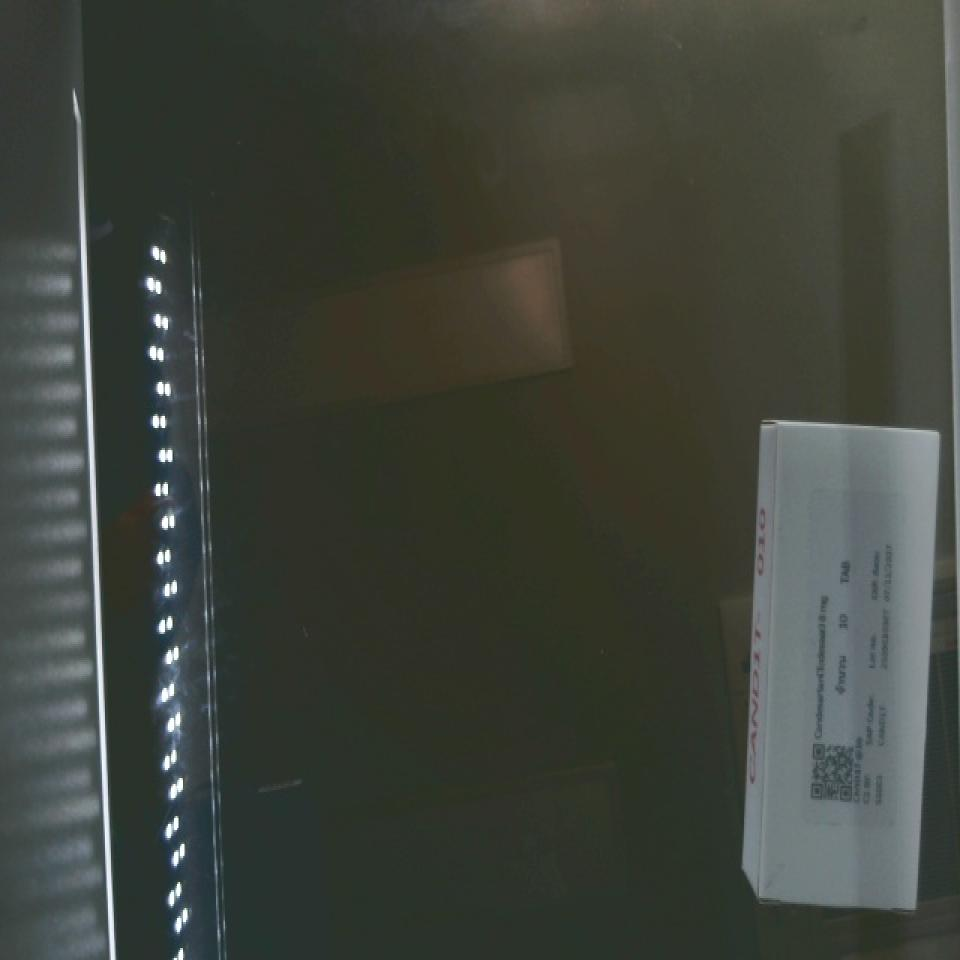medicine_box: (747, 420, 942, 910)
qr_code: (798, 724, 875, 822)
